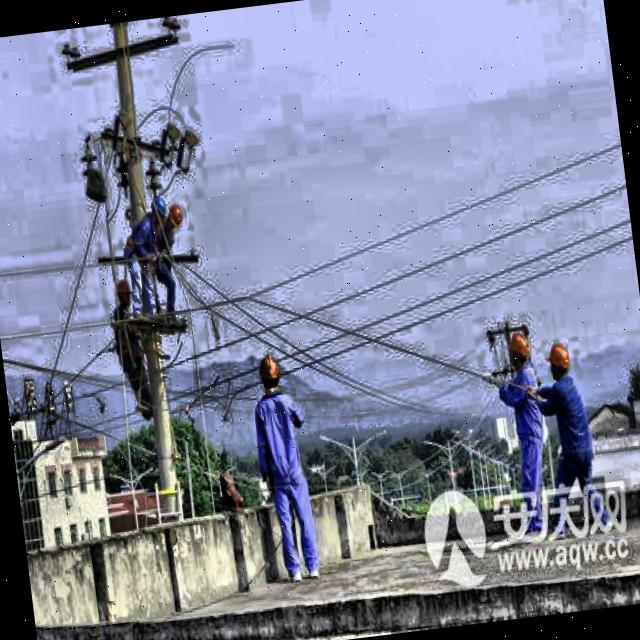helmet: (255, 346, 288, 399), (541, 338, 573, 385), (505, 330, 533, 376), (147, 190, 168, 234), (110, 276, 133, 312), (165, 199, 188, 234)
